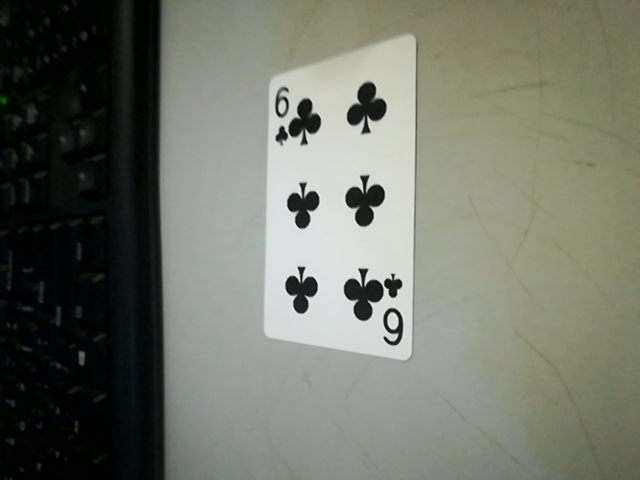mh 6: (367, 275, 414, 356)
